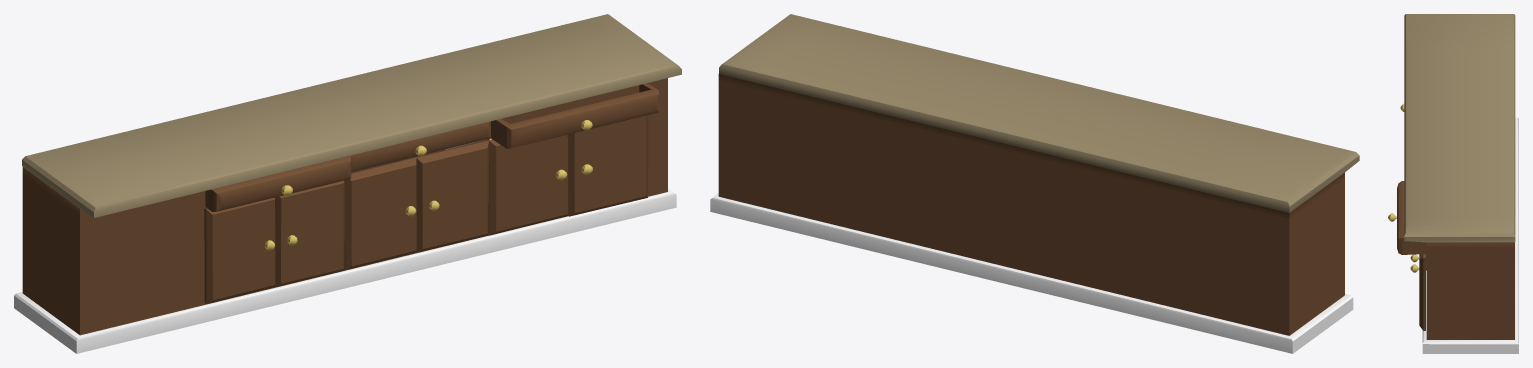
The model's file is counter.fbx.
3 views of the same model, side by side, from view 1: azimuth 30°, elevation 25°; view 2: azimuth 150°, elevation 25°; view 3: azimuth 270°, elevation 25° (orthographic). The views are drawn at different scales.
Parts seen in each view (by area): view 1: Comptoir.004; view 2: Comptoir.004; view 3: Comptoir.004.
Part boxes in pixels (x1=…): Comptoir.004: x1=14, y1=14, x2=681, y2=353; Comptoir.004: x1=710, y1=14, x2=1359, y2=353; Comptoir.004: x1=1388, y1=14, x2=1518, y2=353.
Size of the model in its own units: 473 by 116 by 116.
